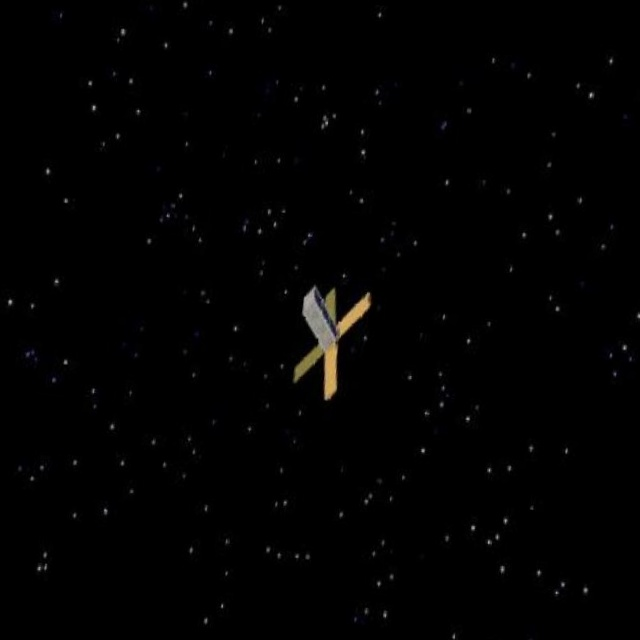satellite: (285, 274, 380, 408)
